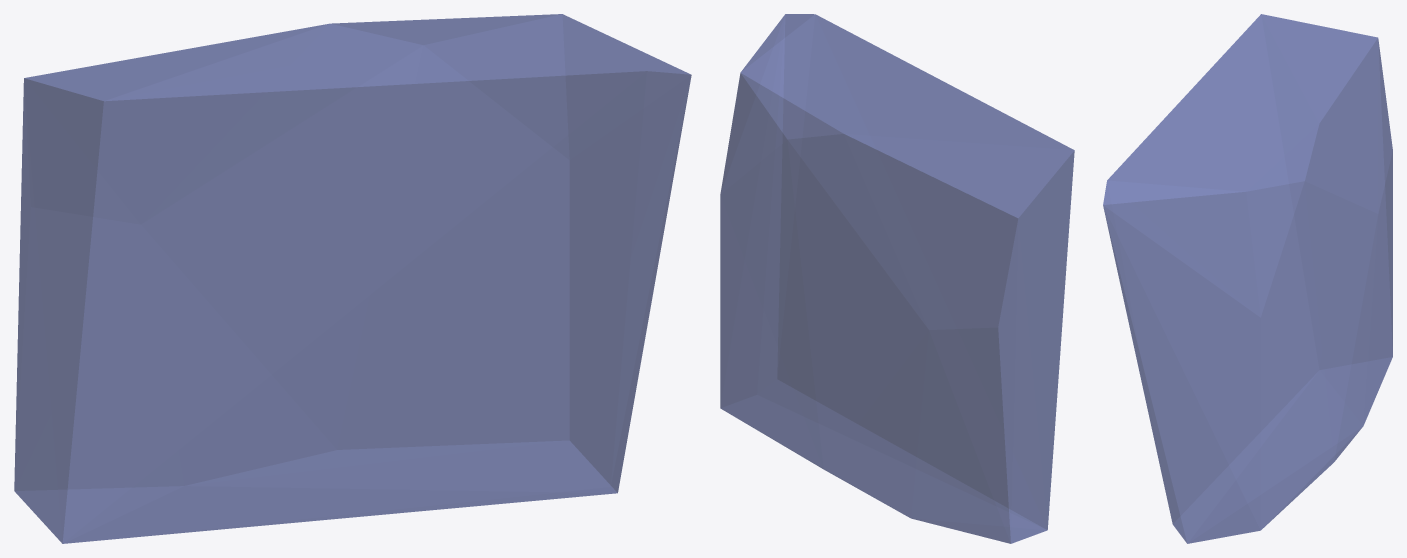
The picture shows the model from 3 angles, left to right: view 1: azimuth 30°, elevation 25°; view 2: azimuth 150°, elevation 25°; view 3: azimuth 270°, elevation 25°; orthographic projection. The views are drawn at different scales.
Parts seen in each view (by area): view 1: Shape_IndexedFaceSet.025_Shape_IndexedFaceSet.10735; view 2: Shape_IndexedFaceSet.025_Shape_IndexedFaceSet.10735; view 3: Shape_IndexedFaceSet.025_Shape_IndexedFaceSet.10735.
Boxes of the visible parts, x1,y1,x2,y2 form: Shape_IndexedFaceSet.025_Shape_IndexedFaceSet.10735: (14, 14, 691, 543); Shape_IndexedFaceSet.025_Shape_IndexedFaceSet.10735: (720, 14, 1074, 543); Shape_IndexedFaceSet.025_Shape_IndexedFaceSet.10735: (1103, 14, 1392, 543).
Size of the model in its own units: 0.0961 by 0.0887 by 0.0652.
